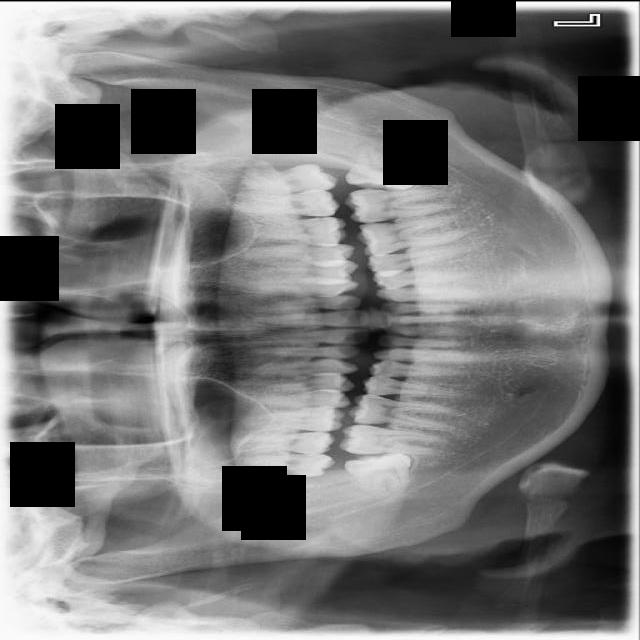3M ESPE Implant: (228, 451, 339, 479)
73: (546, 61, 568, 67)
BioHorizons Implant: (221, 189, 341, 216)
BioLife Implant: (236, 161, 338, 197)
Biomet 3i Implant: (343, 138, 419, 194)
Blue Sky Bio Implant: (342, 172, 462, 227)
Caries: (235, 430, 336, 459)
Implant: (338, 421, 442, 462)
Keystone Dental Implant: (342, 450, 413, 496)
